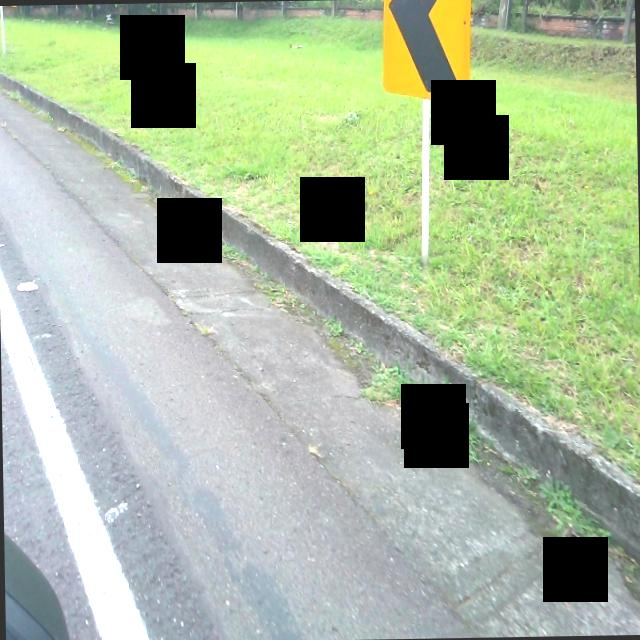DITCH: (0, 59, 640, 640), (0, 83, 640, 640)
